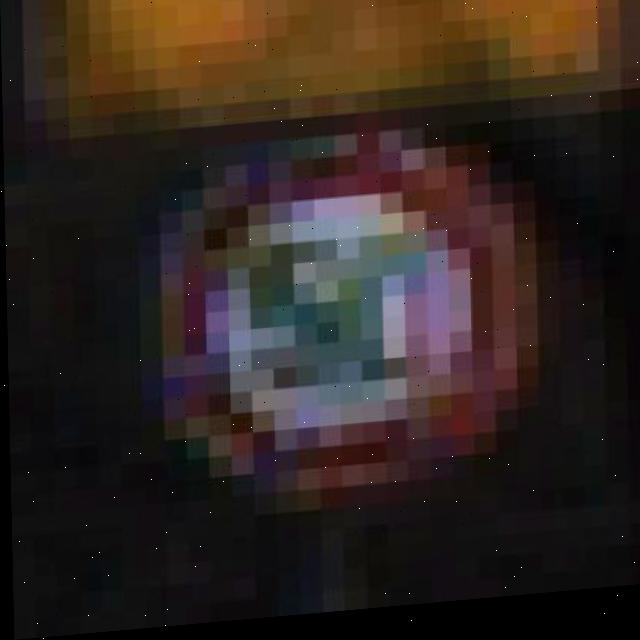Speed limit 50: (142, 113, 544, 517)
